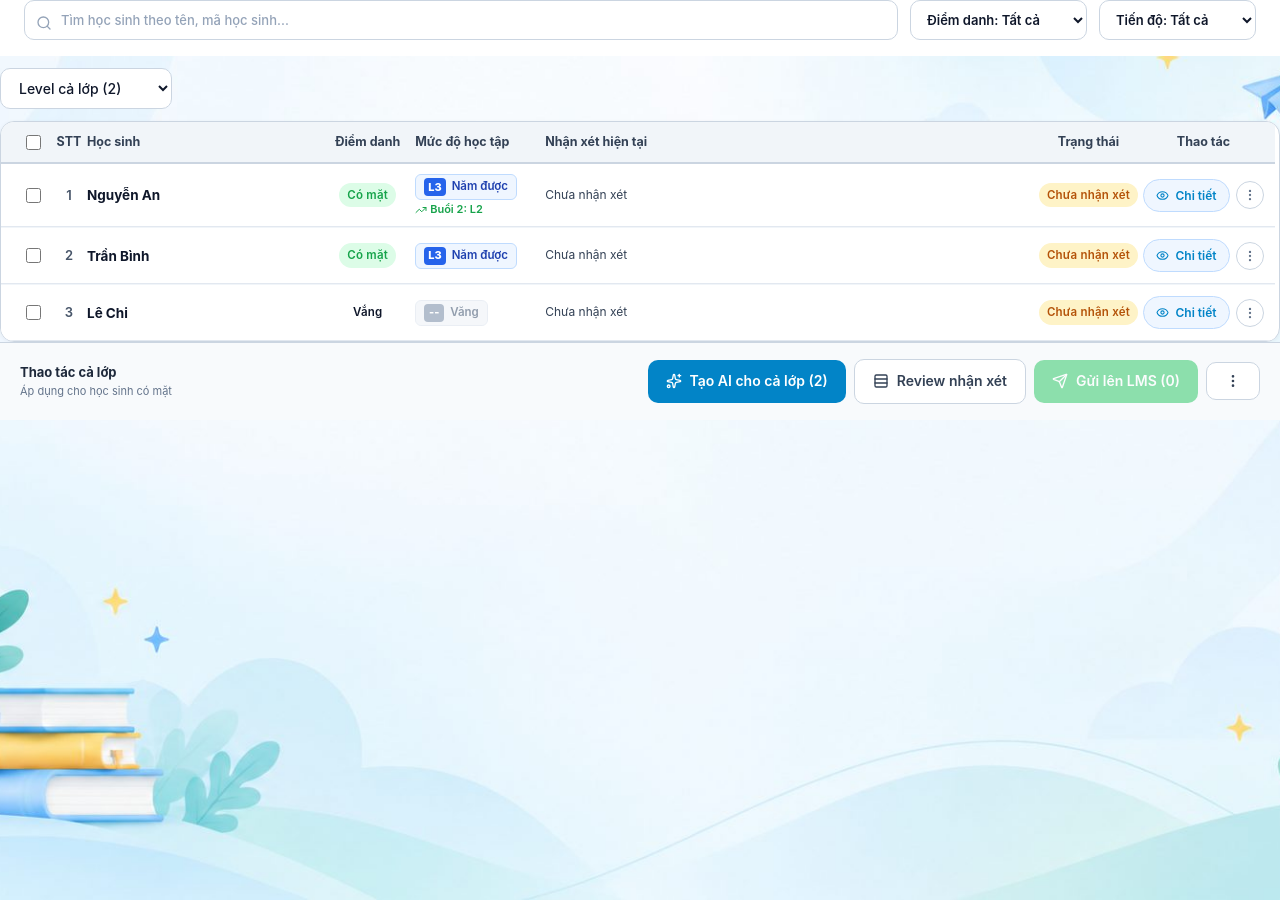
Test: student detail drawer › renders one detail with the close button pinned outside the scrolling body and returns focus to the last row shown
Click the button "Nguyễn An": (124, 195) [1,164,1275,227]
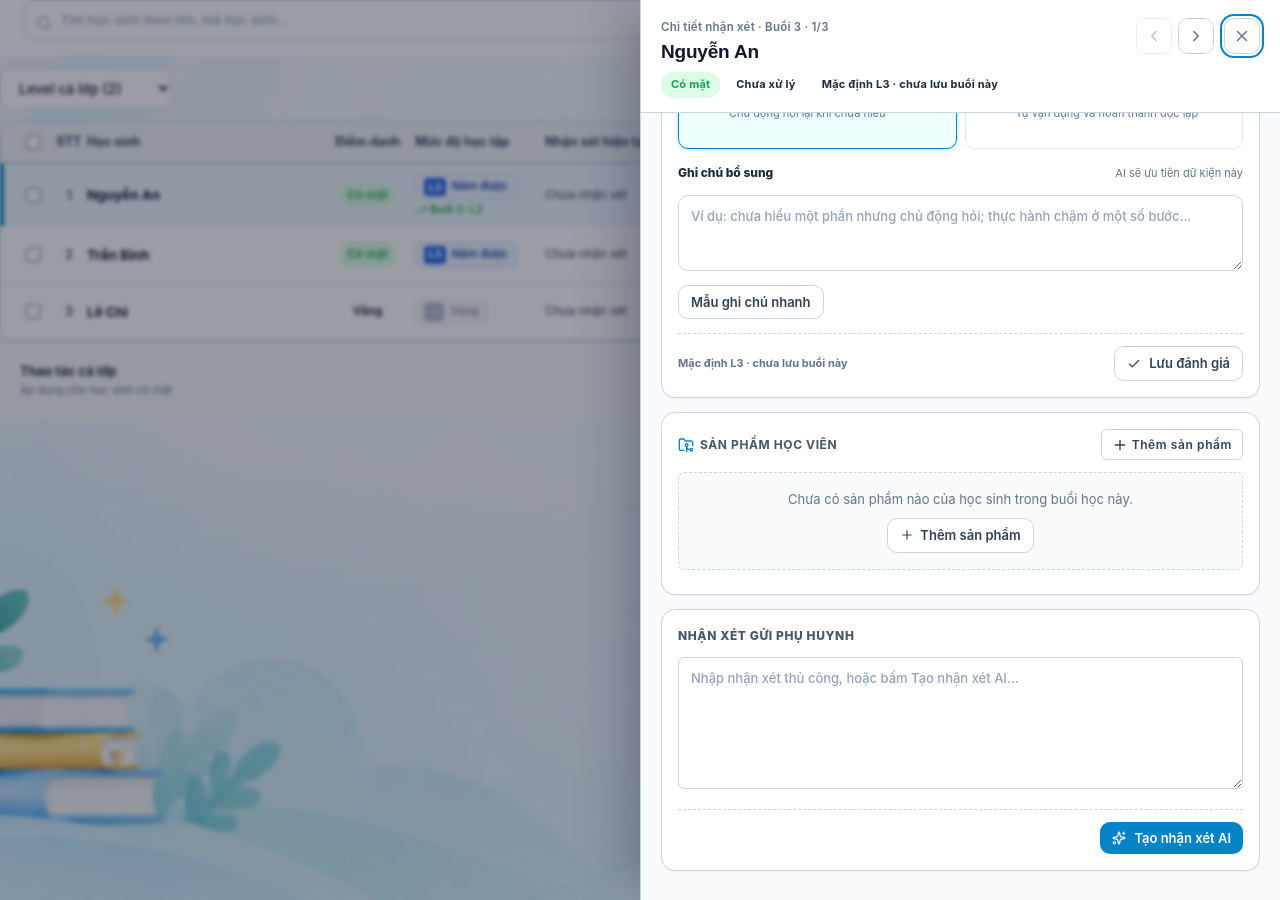
Expected: the number of text boxes named "Ghi chú bổ sung cho Nguyễn An" is 1, [678,194,1243,270]
Expected: the button named "Học sinh trước" is disabled, [1136,18,1172,54]
Click the button named "Học sinh tiếp theo": (1196, 36) [1178,18,1214,54]
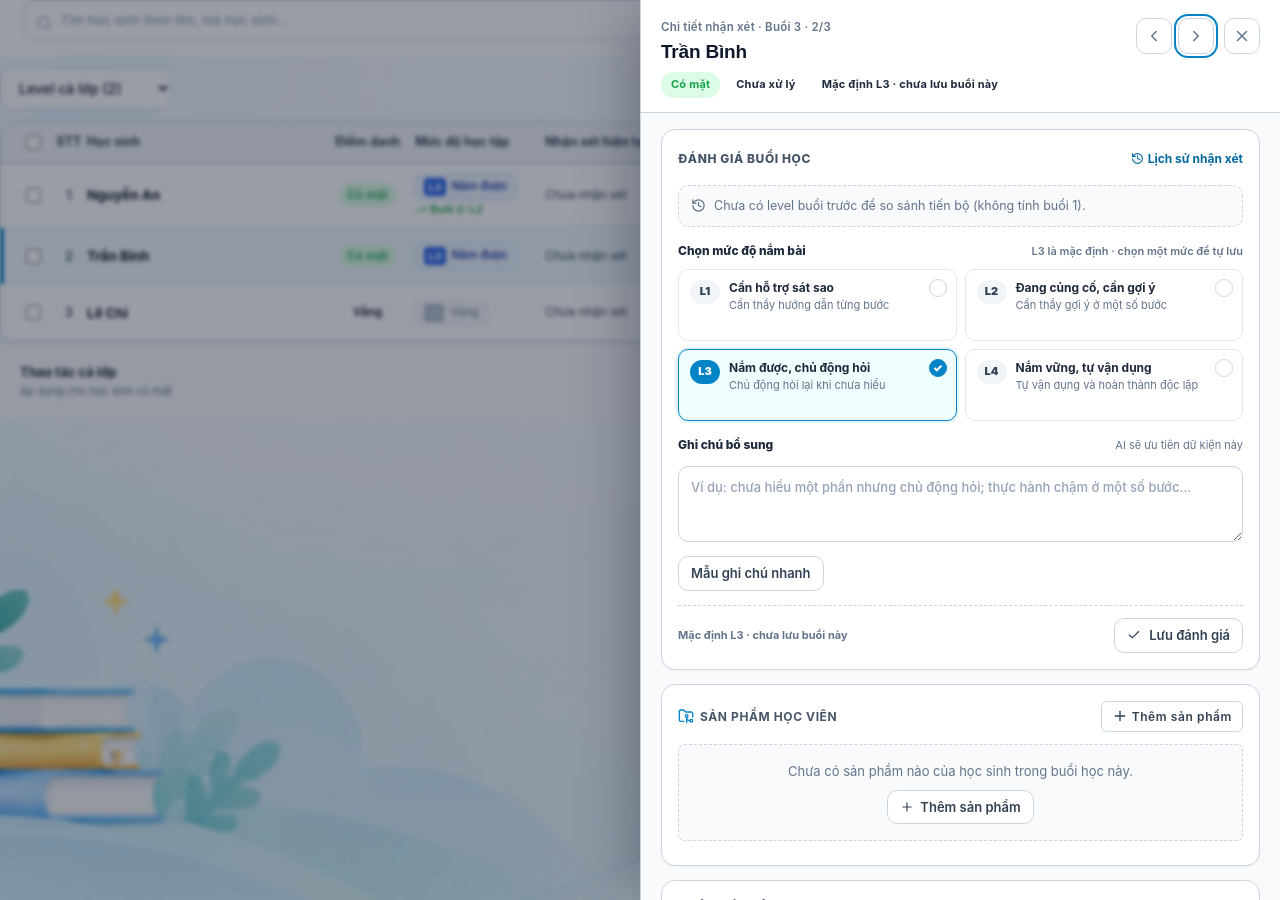
Expected: the dialog "Trần Bình" is shown, [640,0,1279,899]
Press Escape
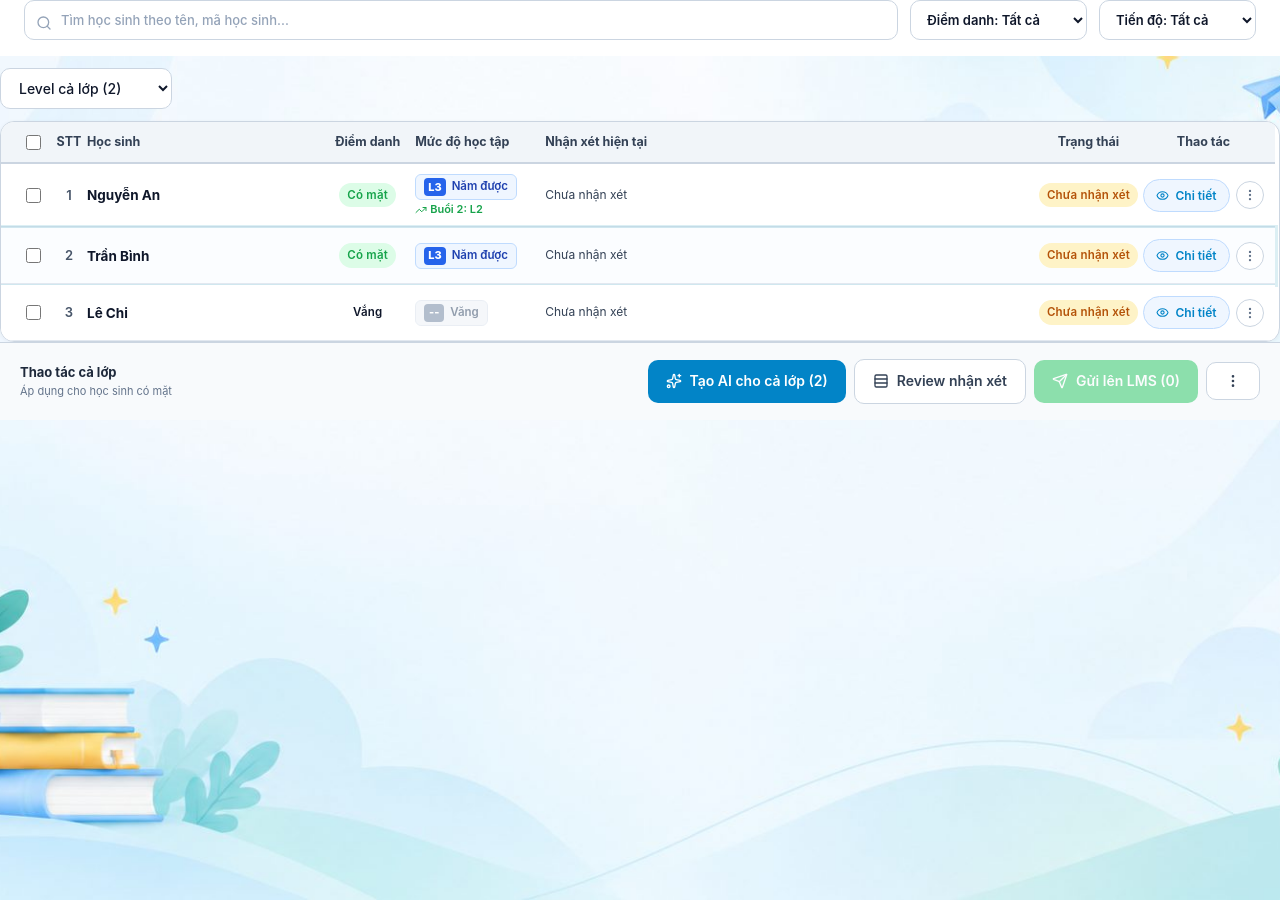
Expected: the dialog is gone
